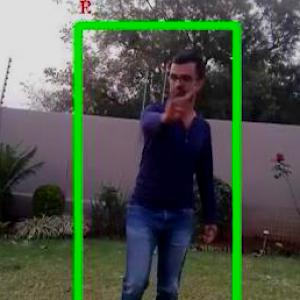takeoff-hand: (157, 79, 203, 133)
